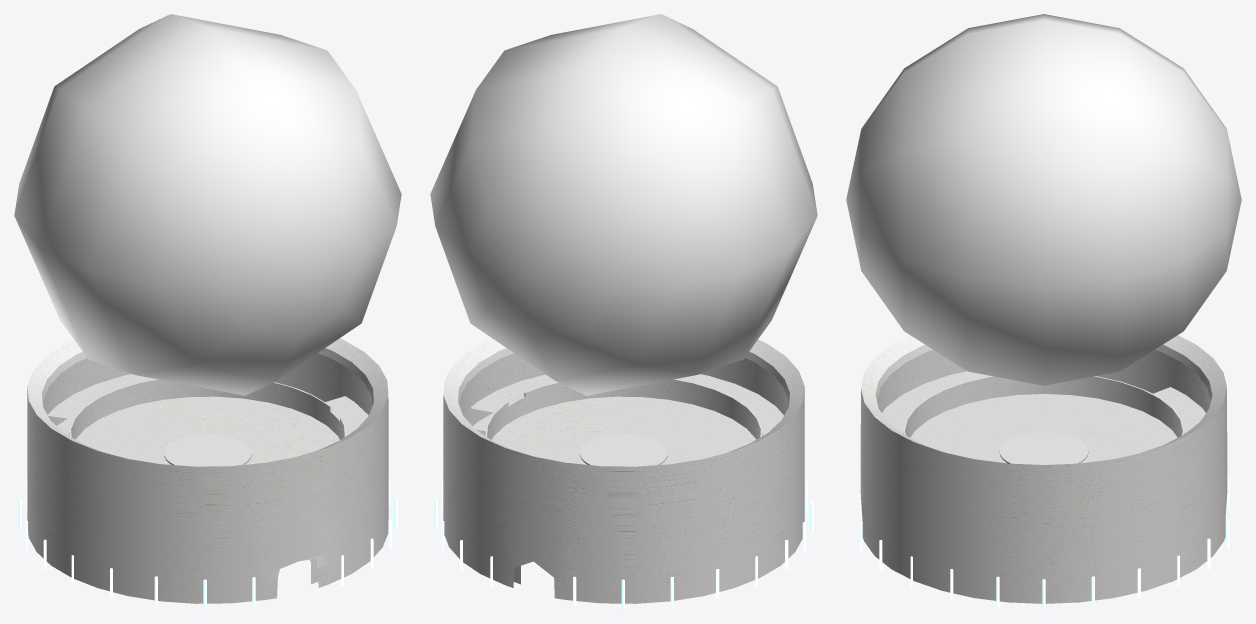
File: Moon_Sphere_Daric.fbx
3 views of the same model, side by side, from view 1: azimuth 30°, elevation 25°; view 2: azimuth 150°, elevation 25°; view 3: azimuth 270°, elevation 25° (orthographic).
Parts seen in each view (by area): view 1: Moon, Base, Column.001; view 2: Moon, Base, Column.001; view 3: Moon, Base, Column.001.
Boxes of the visible parts, bbox=[...] form: Moon: bbox=[14, 14, 401, 395]; Base: bbox=[27, 338, 388, 603]; Column.001: bbox=[18, 478, 397, 609]; Moon: bbox=[430, 14, 817, 395]; Base: bbox=[443, 338, 804, 603]; Column.001: bbox=[434, 479, 813, 609]; Moon: bbox=[846, 14, 1241, 385]; Base: bbox=[860, 335, 1227, 603]; Column.001: bbox=[859, 477, 1229, 609].
Bounding box in the file's own units: 7169 × 10161 × 7169.
